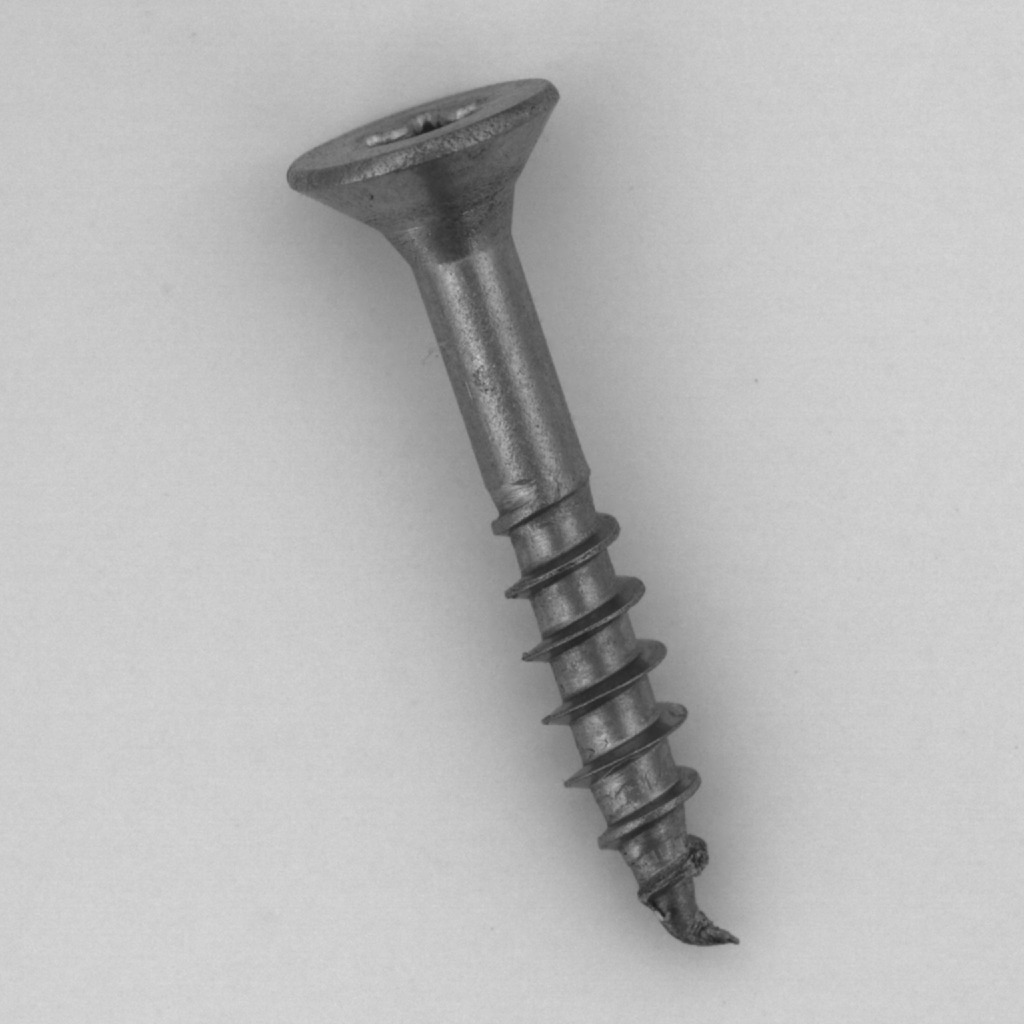manipulated_front: (590, 851, 775, 983)
